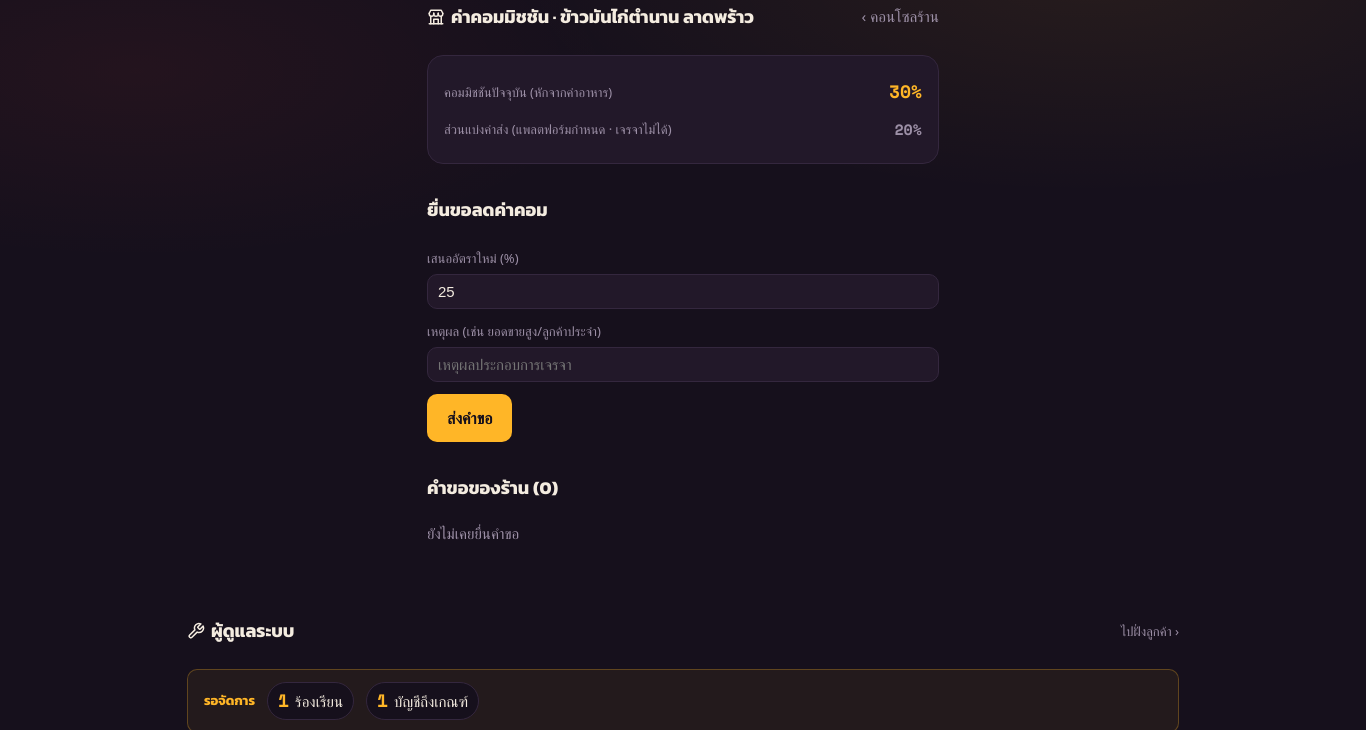
Test case: MerchantRate — เจรจาอัตราคอมมิชชัน › end-to-end สองทาง: ร้านยื่น → แอดมินเสนอแย้ง → ร้านตอบรับ → อัตราเป็นค่าที่เสนอแย้ง
Click the button "ส่งคำขอ" at (470, 418), box [427,394,512,442]
(page scrolled)
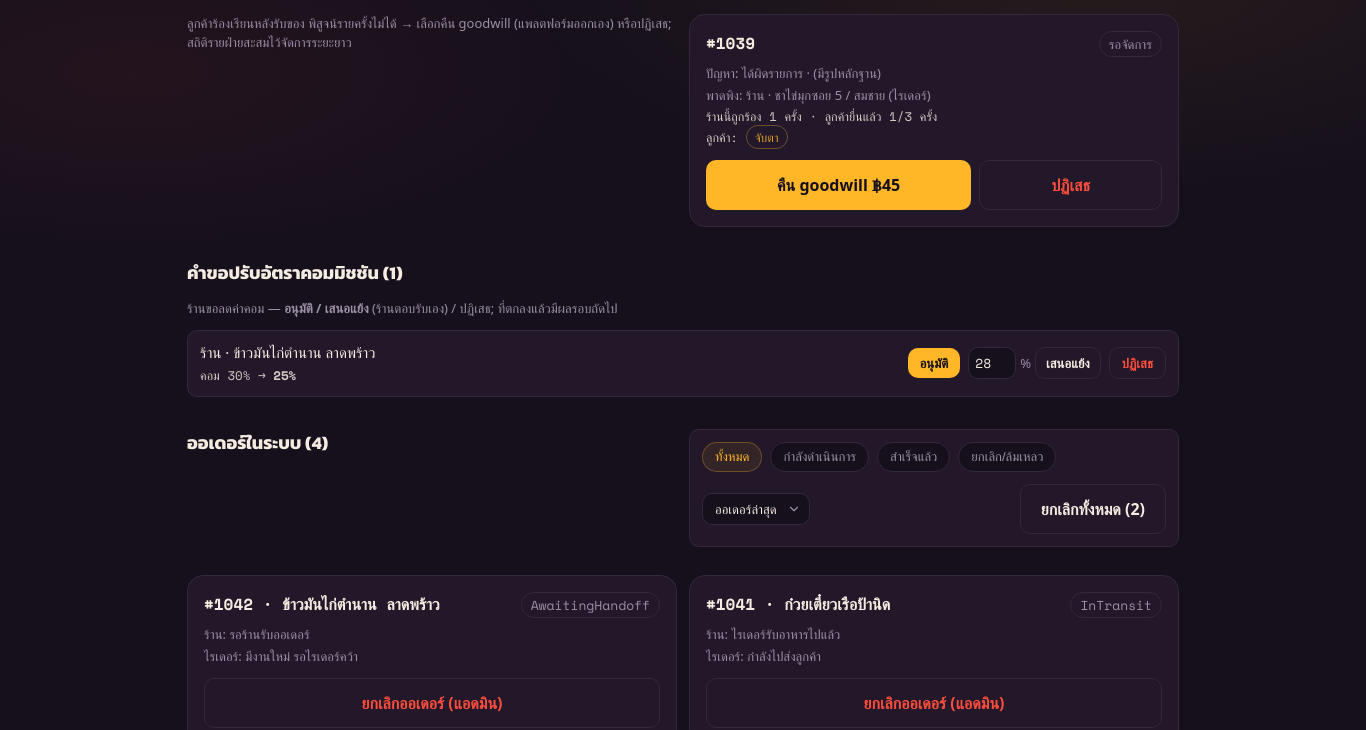
Click the button with aria-label "เสนอแย้ง ร้าน" at (1068, 363), box [1035,347,1101,379]
(page scrolled)
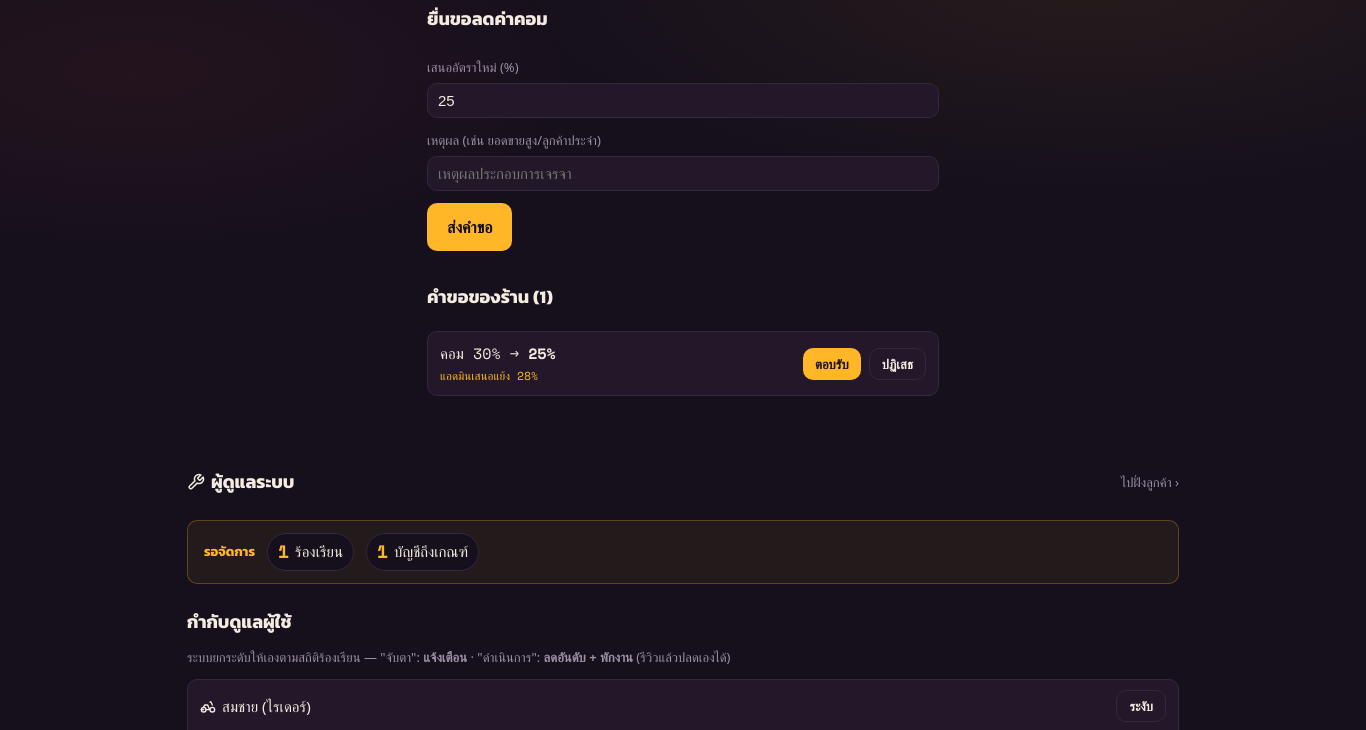
Click the button with aria-label "ตอบรับข้อเสนอแย้ง" at (832, 364), box [803,348,861,380]
(page scrolled)
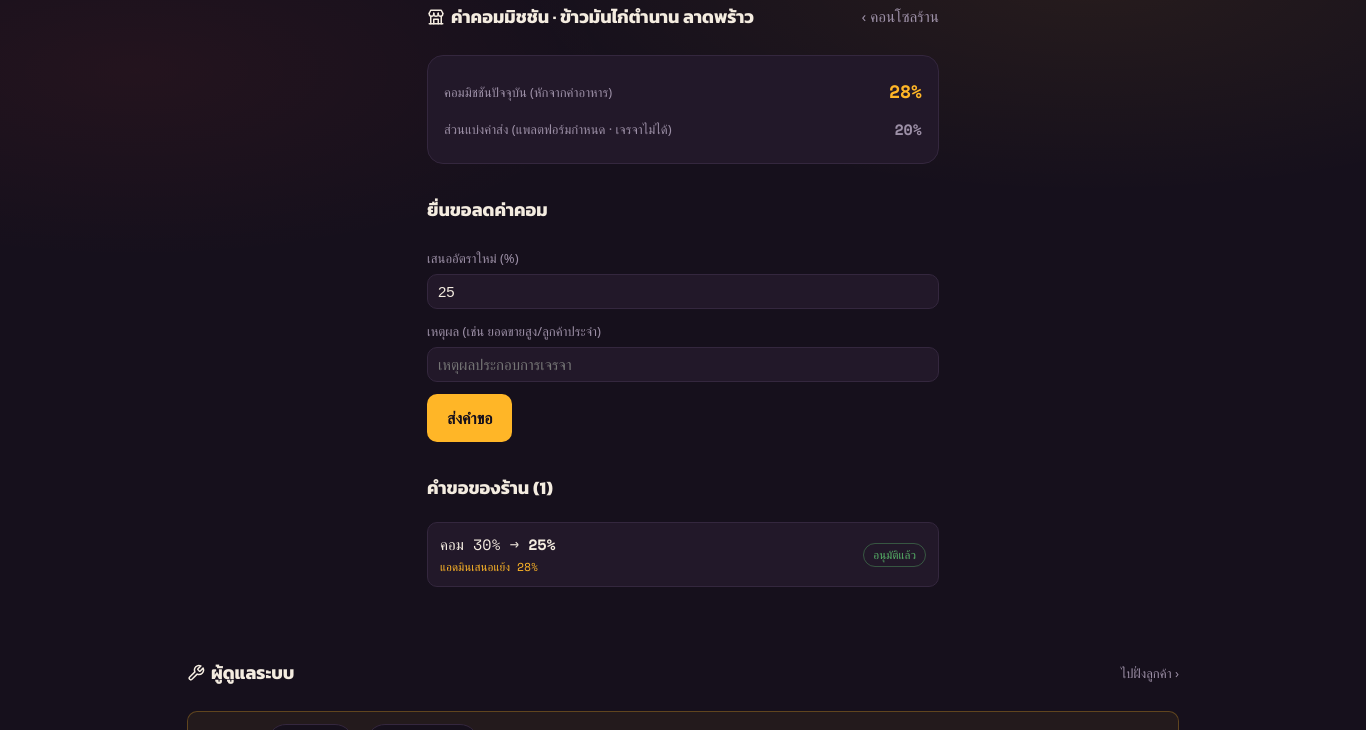
Check: the text with test id "current-commission" reads "28%", box [889,78,922,106]
